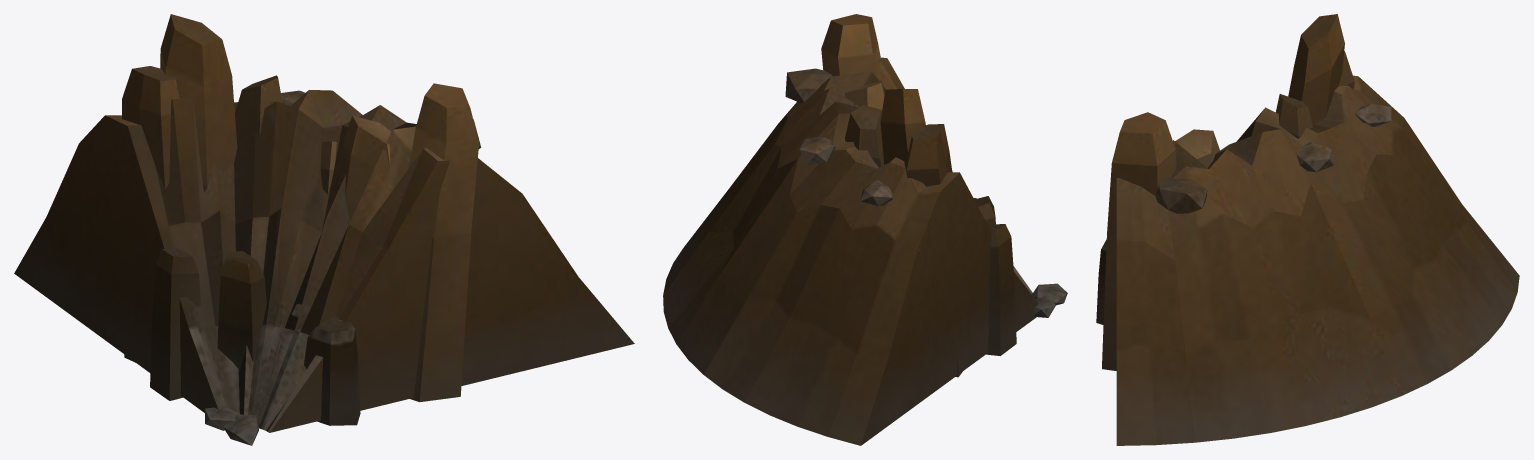
Rendered from cliff-inner-old.glb.
3 renders of one model, left to right at view 1: azimuth 30°, elevation 25°; view 2: azimuth 150°, elevation 25°; view 3: azimuth 270°, elevation 25°, orthographic. The views are drawn at different scales.
Parts seen in each view (by area): view 1: cliff-inner; view 2: cliff-inner; view 3: cliff-inner.
Boxes of the visible parts, box(x1,y1,x2,y2) form: cliff-inner: box(14, 14, 634, 445); cliff-inner: box(663, 14, 1067, 445); cliff-inner: box(1096, 14, 1519, 445).
Bounding box in the file's own units: 3.62 × 2.75 × 3.68.
Materials: 2 (2 with a texture image).
